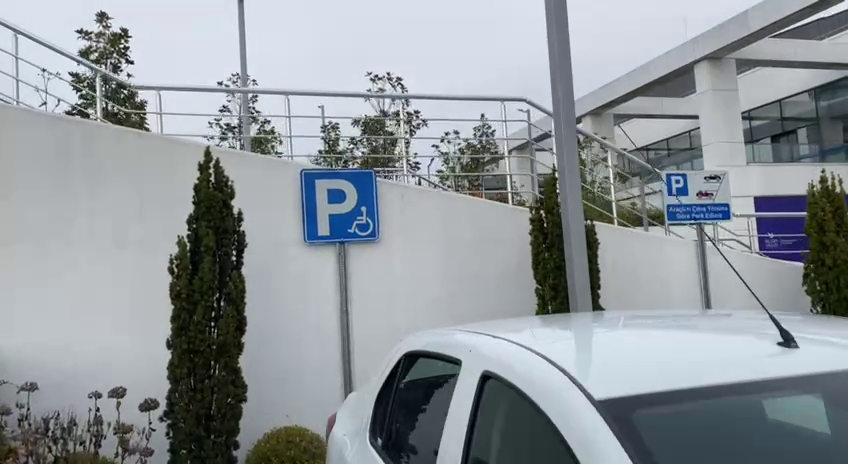parking: (298, 167, 380, 244), (664, 172, 691, 196)
